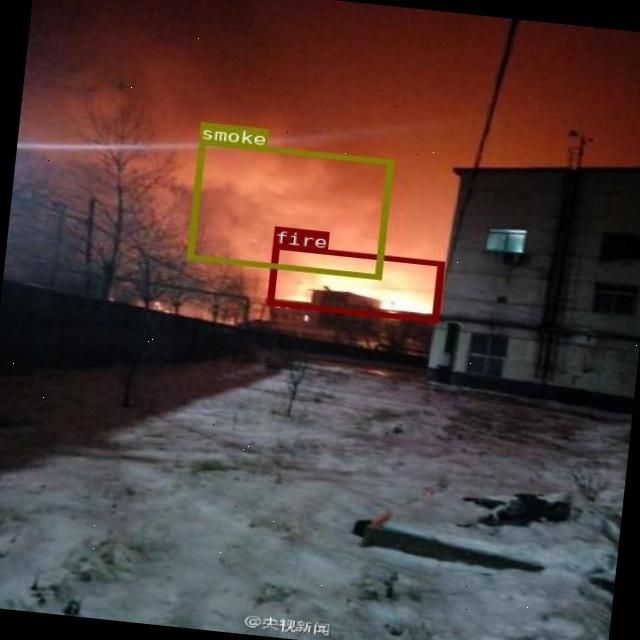fire: (266, 242, 442, 322)
smoke: (186, 138, 391, 278)
